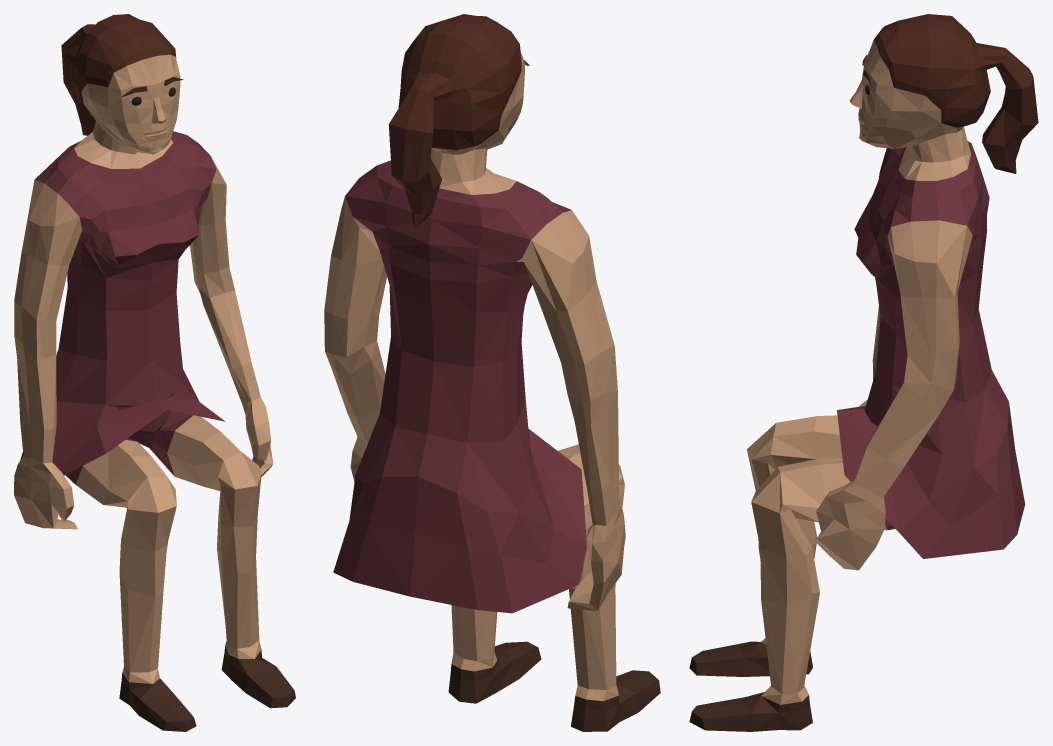
The model's file is cg_dress_0.glb.
3 views of the same model, side by side, from view 1: azimuth 30°, elevation 25°; view 2: azimuth 150°, elevation 25°; view 3: azimuth 270°, elevation 25° (orthographic). The views are drawn at different scales.
Bounding box in the file's own units: 1.48 × 3.85 × 1.81.
